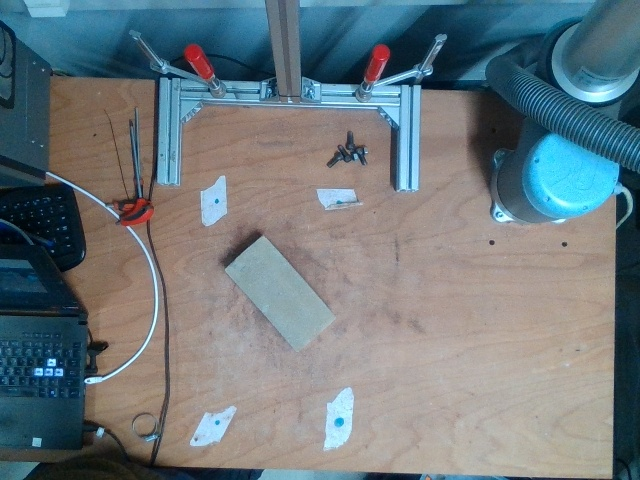brick: (227, 238, 334, 351)
